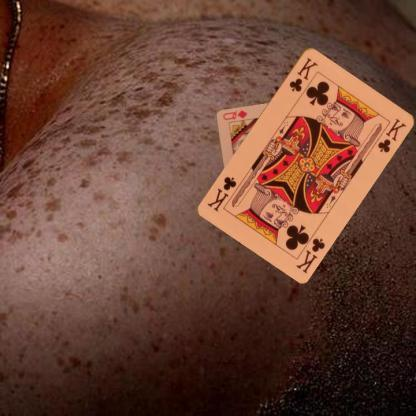Kc: (292, 234, 326, 274), (286, 54, 320, 93)
